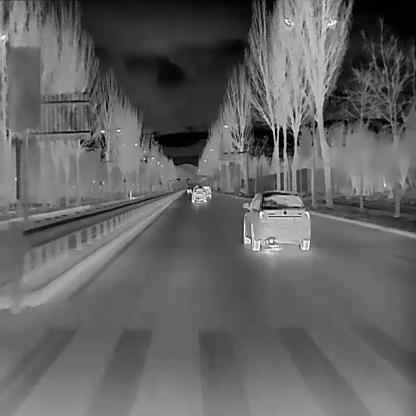car: (241, 189, 311, 251), (190, 187, 207, 201), (202, 185, 212, 198), (186, 186, 192, 193), (194, 183, 198, 187)
